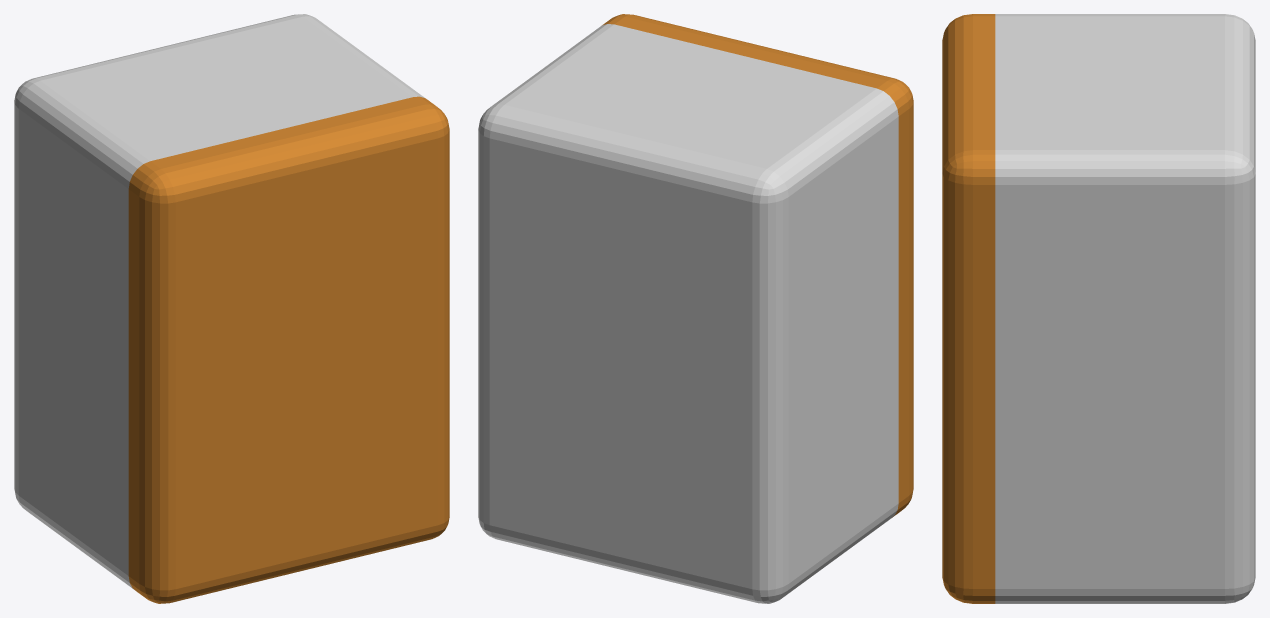
Rendered from pai.fbx.
3 views of the same model, side by side, from view 1: azimuth 30°, elevation 25°; view 2: azimuth 150°, elevation 25°; view 3: azimuth 270°, elevation 25° (orthographic). The views are drawn at different scales.
Visible parts, largest first — view 1: Cube; view 2: Cube; view 3: Cube.
Boxes of the visible parts, x1=… form: Cube: x1=14, y1=14, x2=449, y2=603; Cube: x1=478, y1=14, x2=913, y2=603; Cube: x1=942, y1=14, x2=1255, y2=603.
Size of the model in its own units: 200 by 270 by 170.
